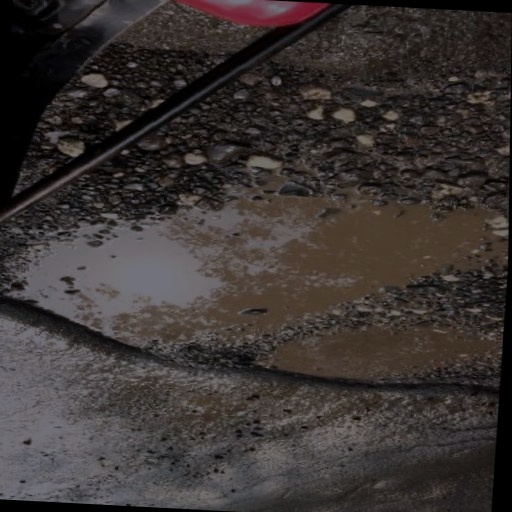pothole: (0, 151, 510, 402)
